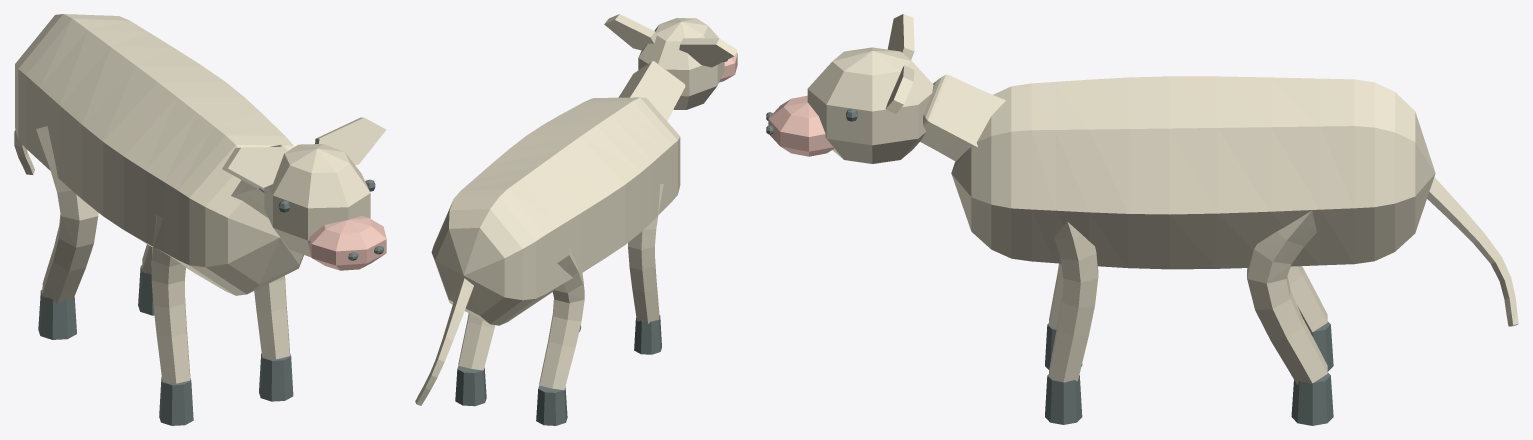
Rendered from calf.glb.
The picture shows the model from 3 angles, left to right: view 1: azimuth 30°, elevation 25°; view 2: azimuth 150°, elevation 25°; view 3: azimuth 270°, elevation 25°; orthographic projection. The views are drawn at different scales.
Parts seen in each view (by area): view 1: calf; view 2: calf; view 3: calf.
Boxes of the visible parts, x1=… form: calf: x1=14, y1=14, x2=386, y2=425; calf: x1=415, y1=14, x2=737, y2=425; calf: x1=766, y1=14, x2=1518, y2=425.
Bounding box in the file's own units: 0.34 × 0.666 × 1.31.
